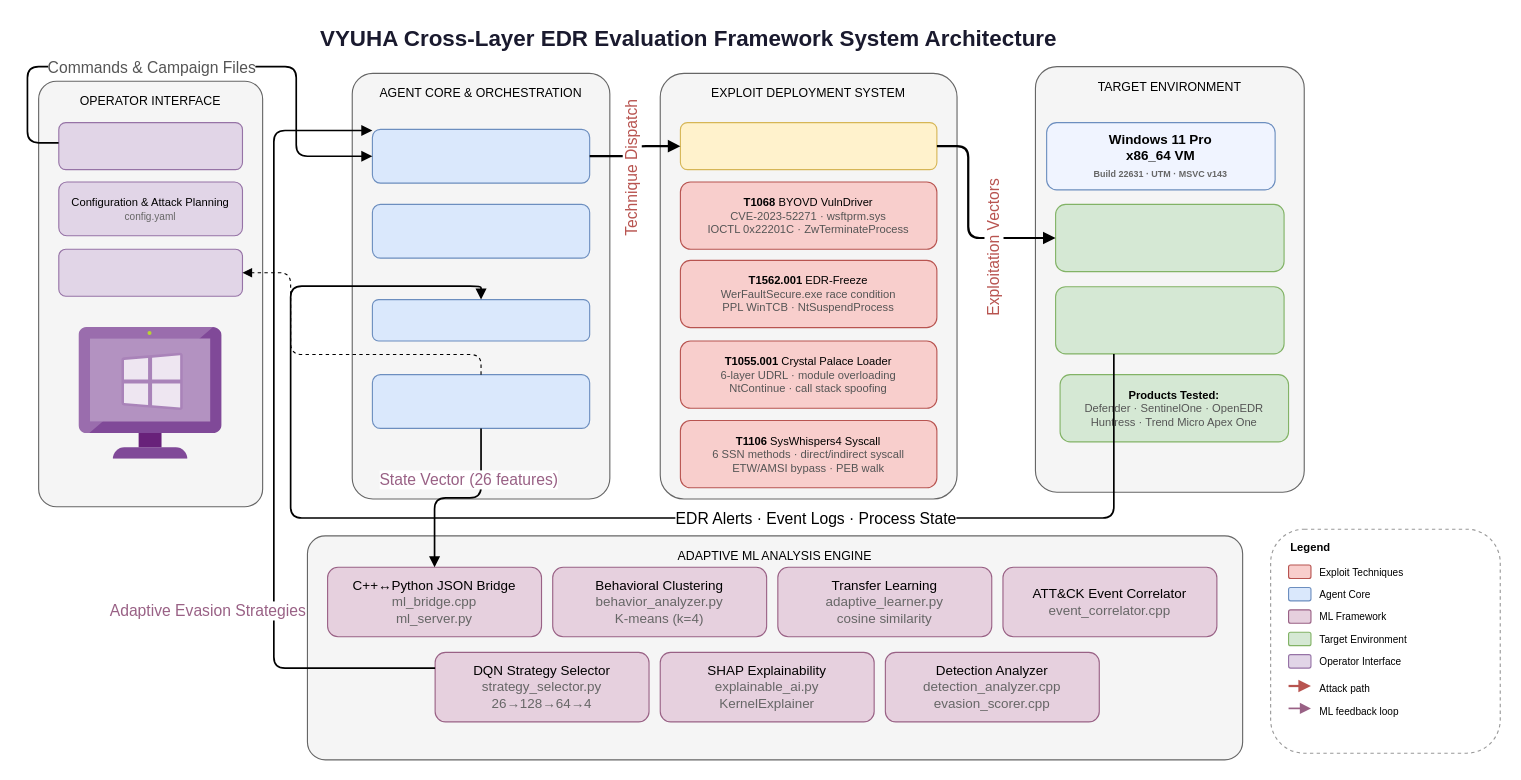
Some shapes in this 1521 by 780 pixel diagram are drawn without their labels. The shapes that lost their labels are listed below. From the top down, each one's centre as x and y in pixels, then its label:
At pixel 150 146: "Interactive CLI cli.cpp".
At pixel 480 155: "Execution Flow Orchestrator orchestrator.cpp".
At pixel 808 146: "Payload Dispatch Director exploit_manager.cpp".
At pixel 480 230: "State & Snapshot Manager snapshot_manager.cpp".
At pixel 1169 237: "EDR Under Test API Hooks · Kernel Callbacks ETW Consumers · Minifilters".
At pixel 150 272: "Multi-Format Export JSON / CSV / HTML / STIX 2.1".
At pixel 480 319: "Telemetry & Clean Module telemetry.cpp / cleaner.cpp".
At pixel 1169 320: "Telemetry Sources Event Log · Process Monitor Defender Operational".
At pixel 480 401: "Campaign Runner agent.cpp::runCampaign()".
